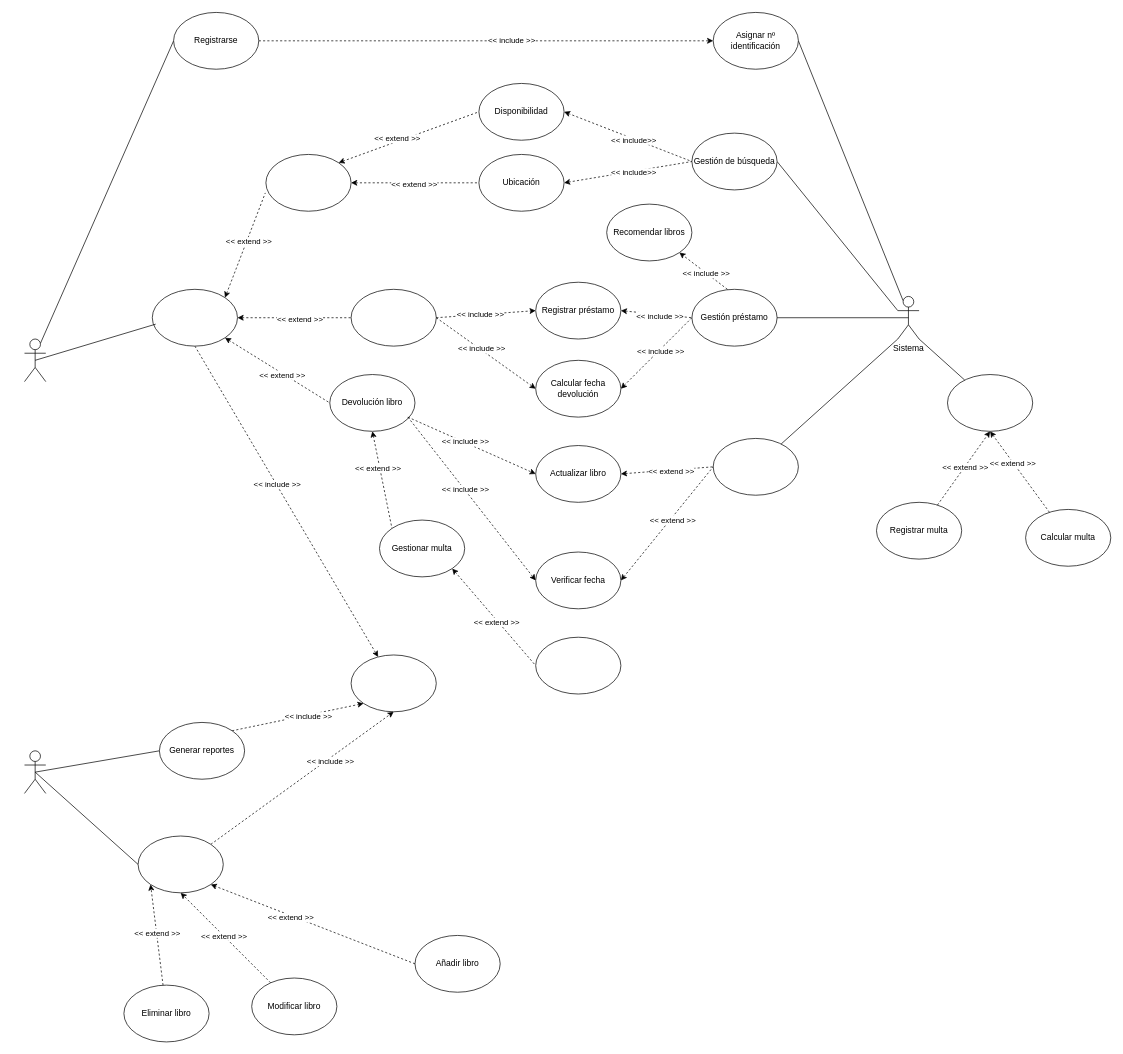
The diagram is 1123 pixels wide and 1054 high, and some of its shapes have lost their labels. The shapes that lost their labels are listed below. From the top down, each one's centre as x and y in pixels, then its label:
point (308, 182): Buscar libro
point (194, 317): Gestionar libro
point (393, 317): Pedir préstamo libro
point (35, 360): Usuario
point (990, 402): Gestión multas
point (755, 466): Gestión devolución
point (393, 683): Autenticazión
point (578, 665): Pagar multa
point (35, 771): Bibliotecario
point (180, 864): Administración libro
